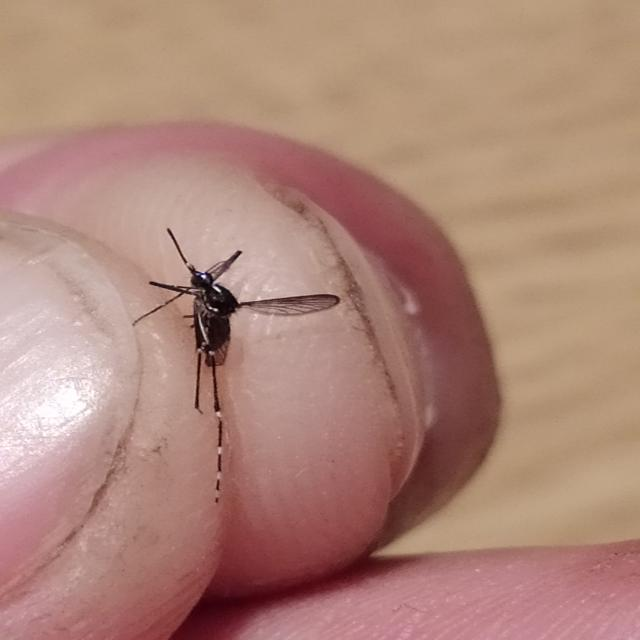albopictus: (133, 219, 334, 438)
